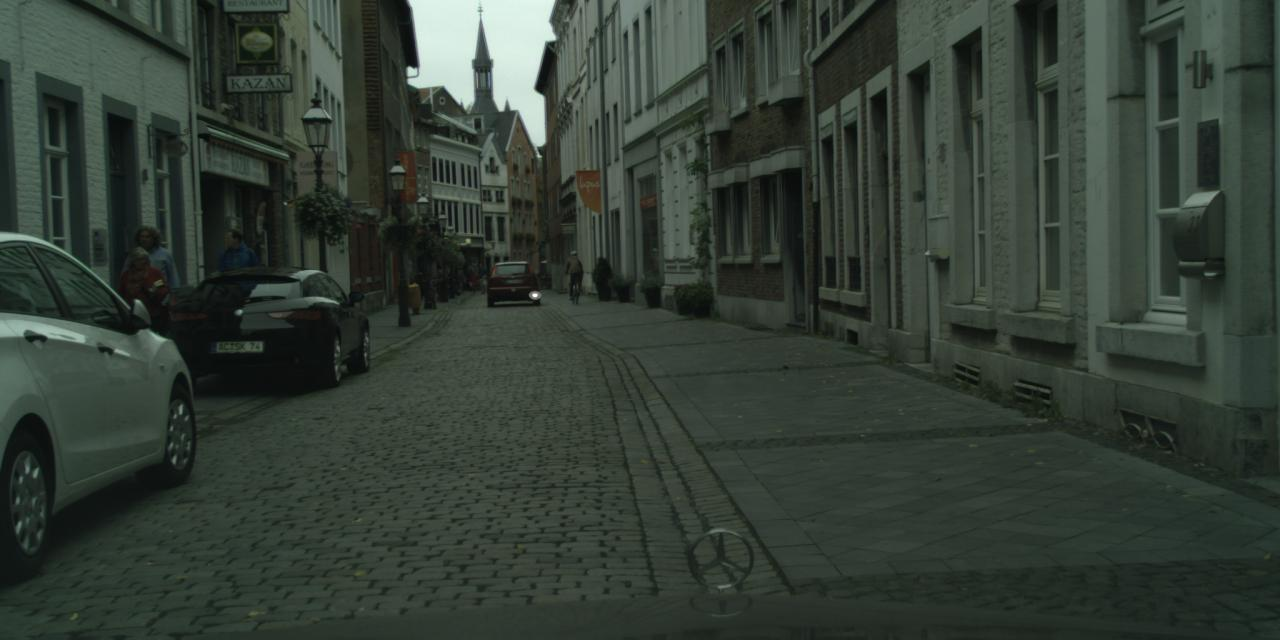ped: (127, 225, 181, 358), (114, 246, 164, 370), (215, 228, 261, 339), (566, 250, 584, 295), (476, 264, 486, 292), (468, 271, 478, 294)
